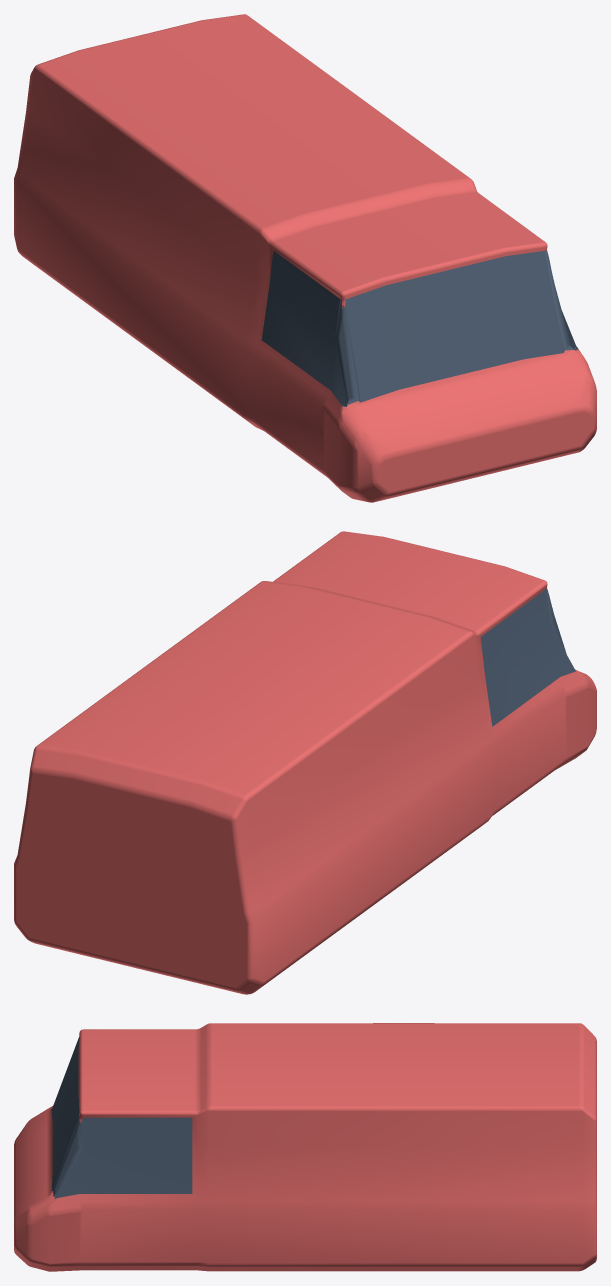
Rendered from damkar_shell.fbx.
3 renders of one model, top to bottom at view 1: azimuth 30°, elevation 25°; view 2: azimuth 150°, elevation 25°; view 3: azimuth 270°, elevation 25°, orthographic. The views are drawn at different scales.
Visible parts, largest first — view 1: ShellBody, ShellGlass; view 2: ShellBody, ShellGlass; view 3: ShellBody, ShellGlass.
Boxes of the visible parts, x1=… form: ShellBody: x1=14, y1=14, x2=596, y2=502; ShellGlass: x1=261, y1=250, x2=577, y2=406; ShellBody: x1=14, y1=531, x2=596, y2=994; ShellGlass: x1=480, y1=588, x2=575, y2=726; ShellBody: x1=14, y1=1023, x2=596, y2=1271; ShellGlass: x1=51, y1=1037, x2=192, y2=1198.
Size of the model in its own units: 8 by 6.2 by 19.6.
